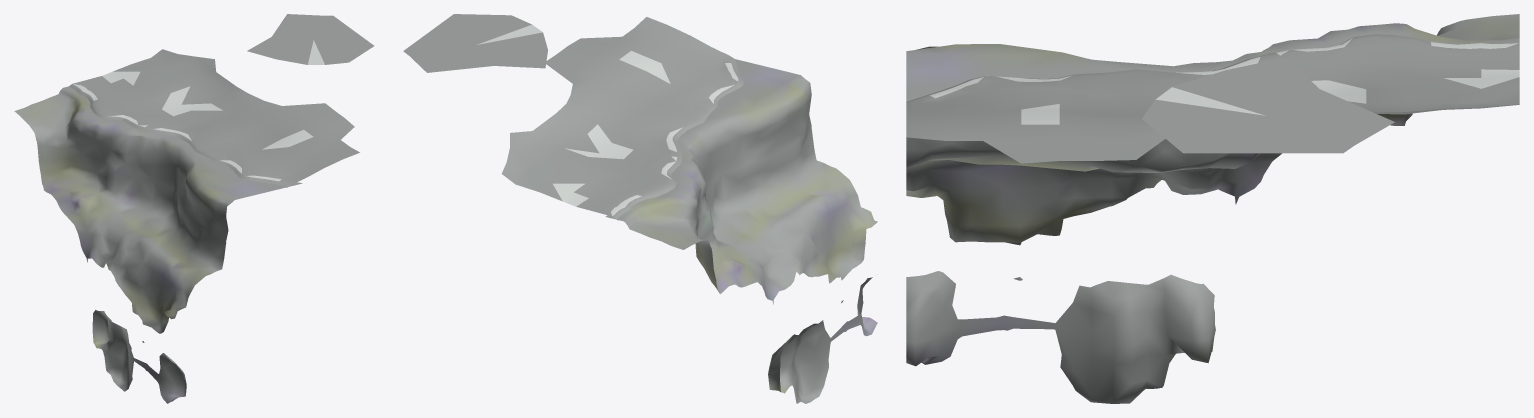
3 views of the same model, side by side, from view 1: azimuth 30°, elevation 25°; view 2: azimuth 150°, elevation 25°; view 3: azimuth 270°, elevation 25° (orthographic). The views are drawn at different scales.
Visible parts, largest first — view 1: G:\FFXIV-MapTools\exports\y6f2\bg\ex5\02_ykt_y6\fld\y6f2\bgp (×9); view 2: G:\FFXIV-MapTools\exports\y6f2\bg\ex5\02_ykt_y6\fld\y6f2\bgp (×10); view 3: G:\FFXIV-MapTools\exports\y6f2\bg\ex5\02_ykt_y6\fld\y6f2\bgp (×10).
Part boxes in pixels (x1,y1,x2,y2): G:\FFXIV-MapTools\exports\y6f2\bg\ex5\02_ykt_y6\fld\y6f2\bgp (×9): [14, 14, 373, 403]; G:\FFXIV-MapTools\exports\y6f2\bg\ex5\02_ykt_y6\fld\y6f2\bgp (×10): [403, 14, 877, 403]; G:\FFXIV-MapTools\exports\y6f2\bg\ex5\02_ykt_y6\fld\y6f2\bgp (×10): [906, 14, 1519, 403].
Bounding box in the file's own units: 128 × 117 × 128.
